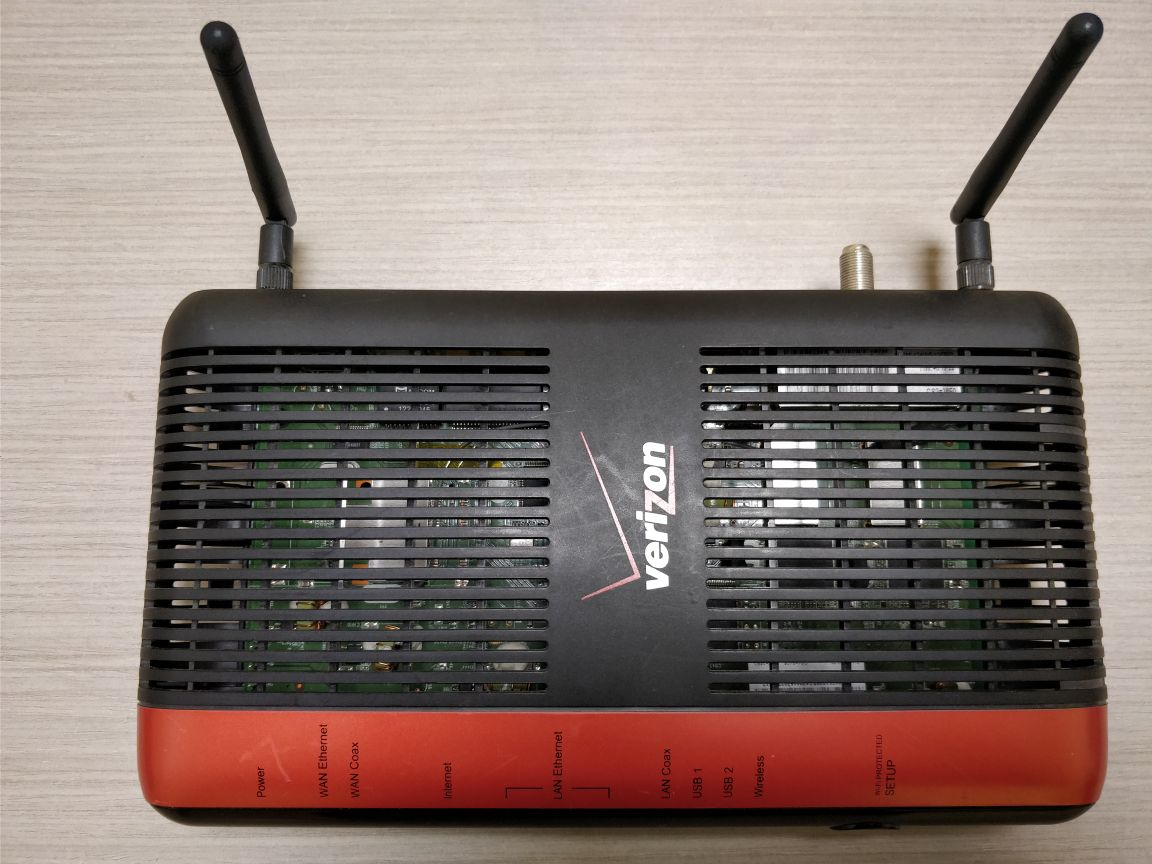Verizon Router: (125, 12, 1148, 840)
